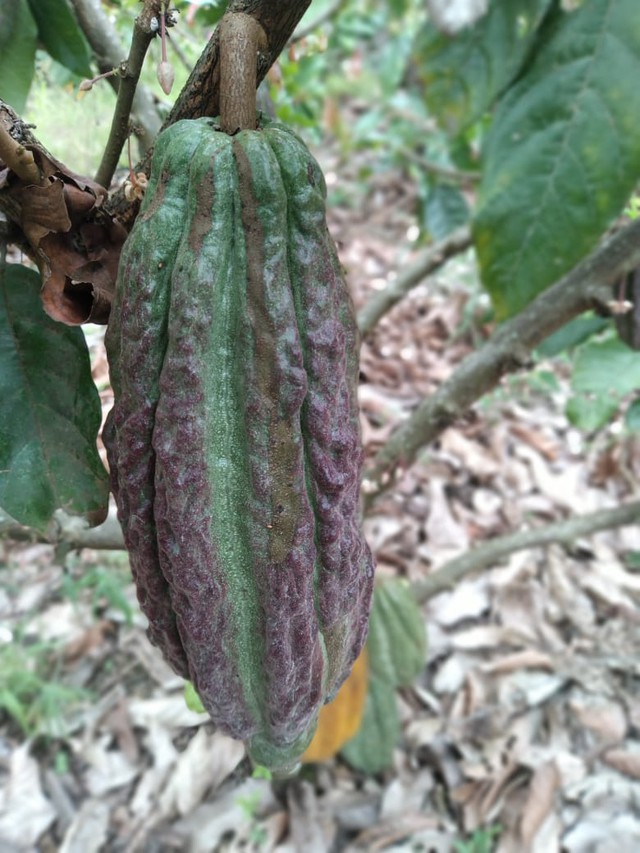Health: (80, 71, 393, 785)
